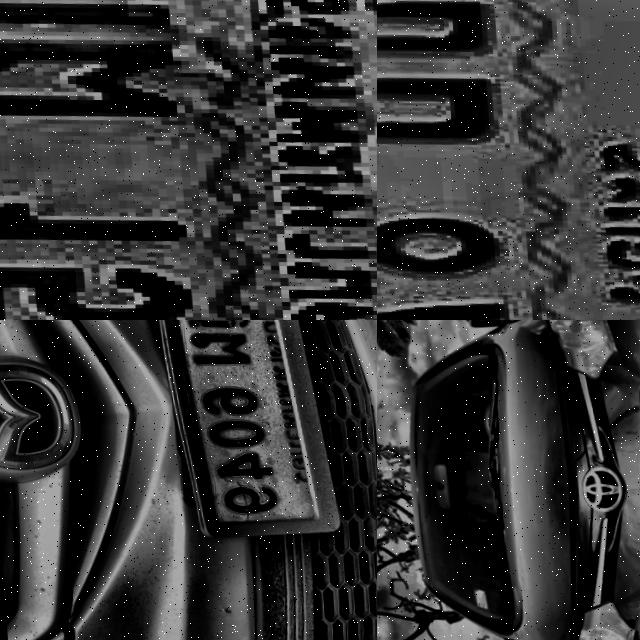license-plate: (0, 0, 377, 320), (377, 0, 640, 320), (139, 320, 344, 540)
